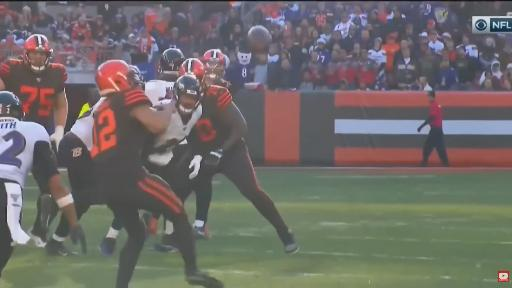Helmet: (95, 60, 141, 95), (174, 74, 202, 113), (23, 35, 52, 72), (159, 48, 185, 77), (0, 91, 24, 120), (203, 49, 226, 78), (179, 59, 204, 82), (130, 65, 145, 89)
Jersey: (91, 88, 151, 185), (0, 60, 67, 129), (0, 118, 56, 186), (148, 104, 202, 166), (189, 86, 232, 152), (71, 97, 105, 151), (145, 80, 174, 105)
Player: (91, 60, 223, 287), (188, 72, 298, 253), (0, 92, 86, 275), (146, 59, 204, 191), (0, 35, 67, 147), (58, 97, 105, 220), (144, 49, 185, 104), (145, 49, 185, 103), (202, 49, 230, 88)
